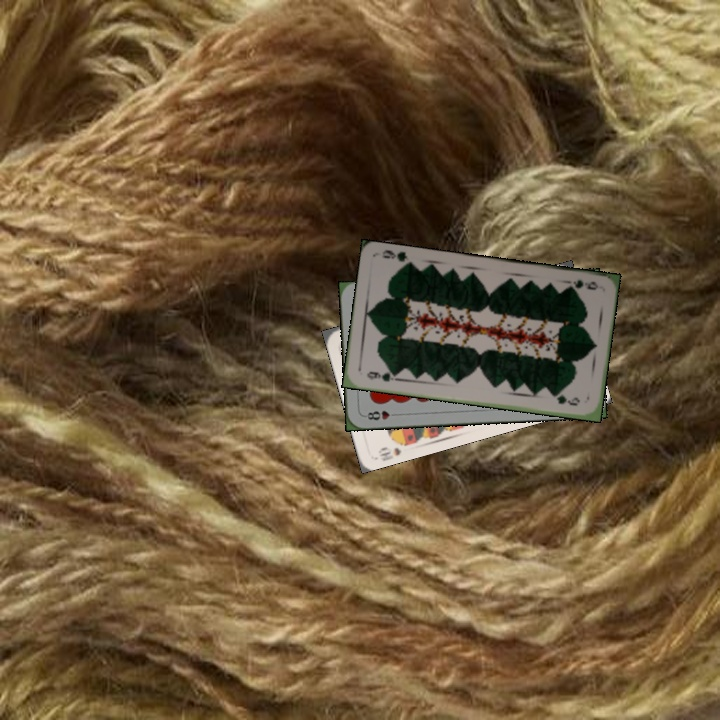G9: (562, 276, 601, 293), (363, 367, 400, 384)
H8: (360, 407, 401, 422)
S10: (374, 436, 411, 463)
